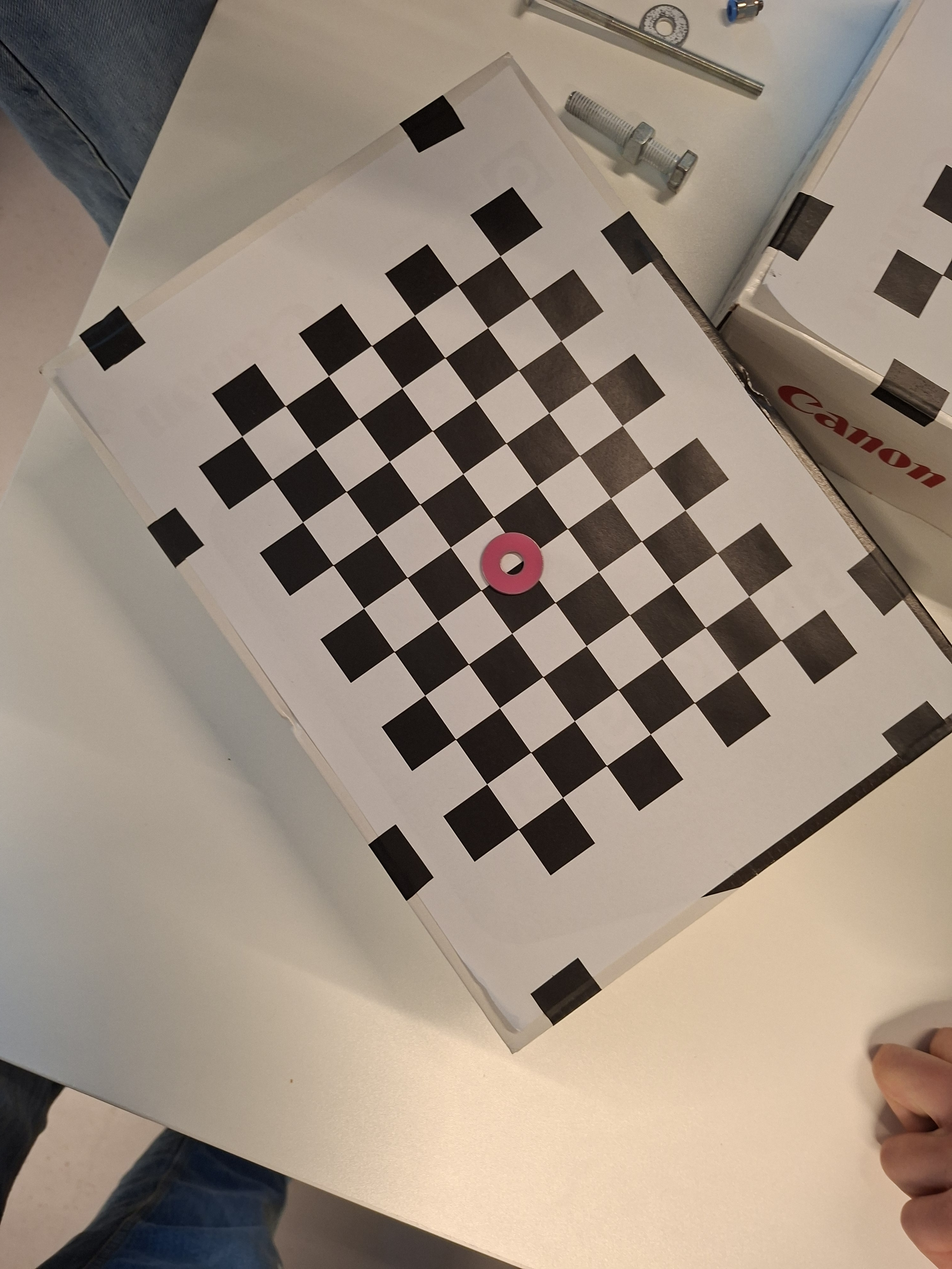washer: (477, 528, 550, 598)
